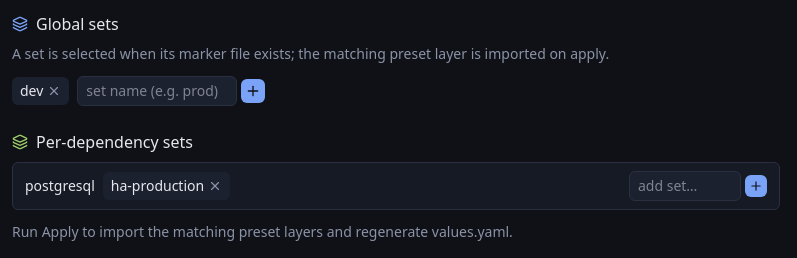
it: SetsTab › scopes a set to one dependency
Expected: the text "ha-production" is shown, [103,172,230,200]
Step 1. Type "canary" into the field with placeholder "add set…" → point(685, 186), box [629,171,741,201]
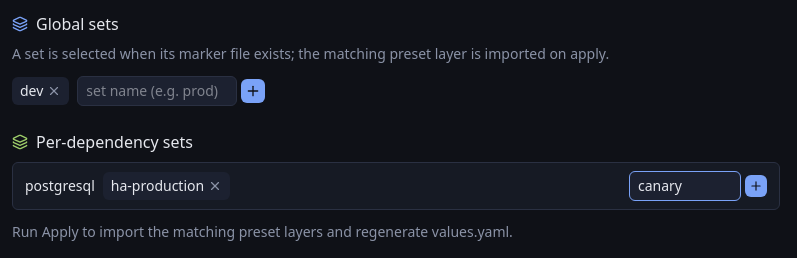
Step 2. Click the button titled "Enable dep set" → point(756, 186), box [745,175,767,197]
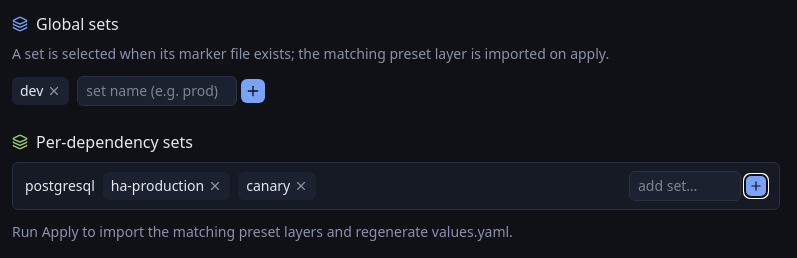
Expected: the element showing "canary" is shown, [238,172,316,200]
